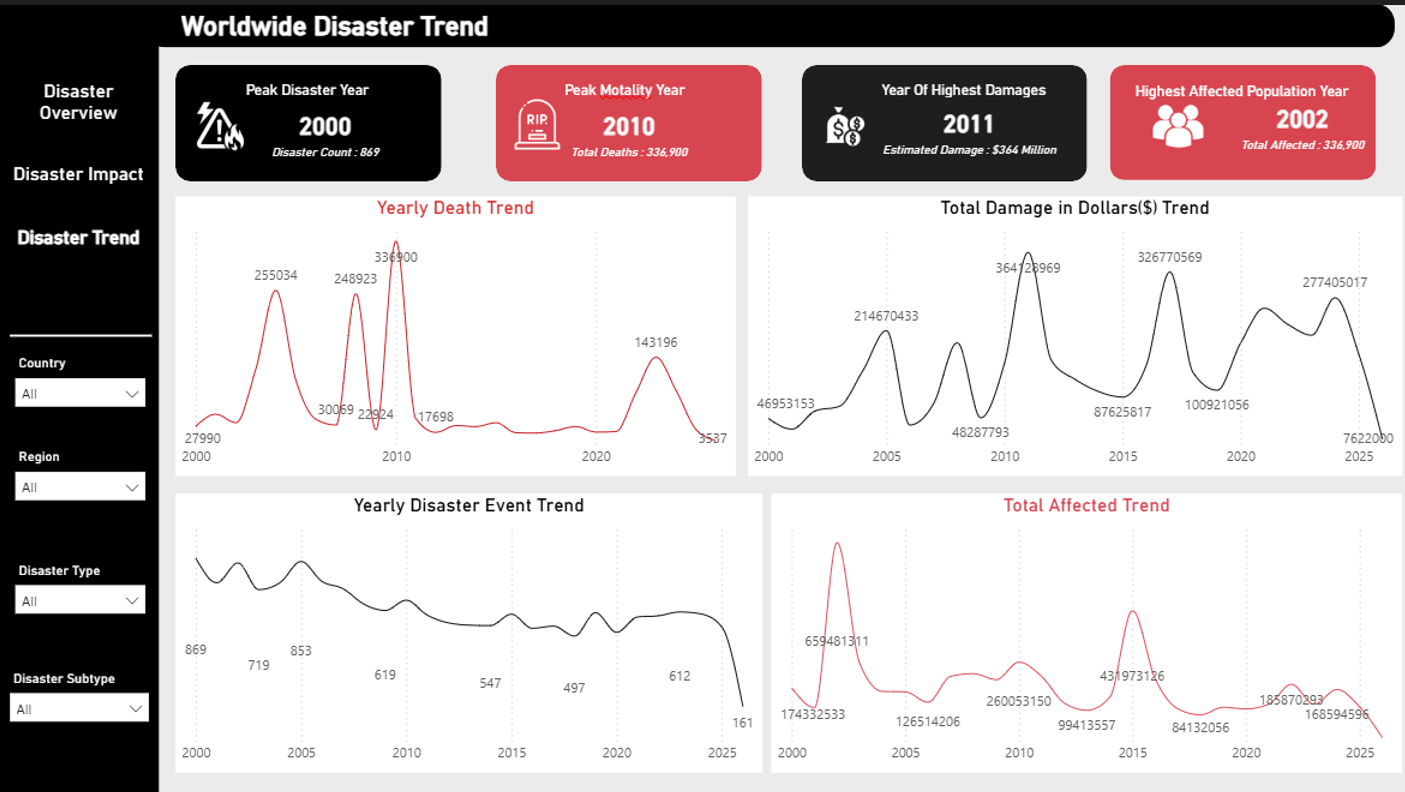

The dashboard page shown, as its layout file describes it:
{"tool":"powerbi","page":{"name":"Dashboard","canvas":[1280,720],"ordinal":1},"visuals":[{"type":"shape","box":[10.1,2,1270.3,718.1],"z":0},{"type":"shape","box":[141.8,7,1122.4,39.2],"z":1000},{"type":"shape","box":[10.1,7,143.8,713.1],"z":2000},{"type":"shape","box":[168,61.4,239.4,104.6],"z":3000},{"type":"areaChart","title":"Yearly Death Trend","fields":{"Category":["SAFETY_ALERT_PRY DATA.Year of Distaster.Variation.Date Hierarchy.Year"],"Y":["Sum(SAFETY_ALERT_PRY DATA.Total _Deaths)"]},"box":[168,180,503.9,251.4],"z":4000},{"type":"stackedAreaChart","title":"Yearly Disaster Event Trend","fields":{"Category":["SAFETY_ALERT_PRY DATA.Year of Distaster.Variation.Date Hierarchy.Year"],"Y":["SAFETY_ALERT_PRY DATA.Number of Events"]},"box":[168,446.6,528,251.4],"z":5000},{"type":"lineChart","title":"Total Damage in Dollars($) Trend","fields":{"Category":["SAFETY_ALERT_PRY DATA.Year of Distaster.Variation.Date Hierarchy.Year"],"Y":["Sum(SAFETY_ALERT_PRY DATA.Total _Damage ( US$))"]},"box":[682.9,180,588.4,251.4],"z":6000},{"type":"stackedAreaChart","title":"Total  Affected Trend","fields":{"Category":["SAFETY_ALERT_PRY DATA.Year of Distaster.Variation.Date Hierarchy.Year"],"Y":["Sum(SAFETY_ALERT_PRY DATA.Total _Affected)"]},"box":[704,446.6,567.3,251.4],"z":7000},{"type":"textbox","box":[168,7,379.2,39.2],"z":8000},{"type":"textbox","box":[226.3,68.4,161.9,34.2],"z":9000},{"type":"textbox","box":[226.3,98.6,152.9,54.3],"z":10000},{"type":"shape","box":[456.6,61.4,239.4,104.6],"z":11000},{"type":"textbox","box":[512.9,68.4,180,34.2],"z":12000},{"type":"textbox","box":[495.5,98.8,161.9,55.1],"z":13000},{"type":"shape","box":[731.2,61.4,256.5,104.6],"z":14000},{"type":"textbox","box":[797.6,68.4,190.1,34.2],"z":15000},{"type":"textbox","box":[787.5,96.6,191.1,56.3],"z":16000},{"type":"shape","box":[1008.8,61.5,239.6,103.6],"z":17000},{"type":"textbox","box":[1026.6,69.6,204,34],"z":18000},{"type":"textbox","box":[1101.3,91.5,161.9,56.3],"z":19000},{"type":"slicer","fields":{"Values":["SAFETY_ALERT_PRY DATA.Country"]},"box":[14.1,317.8,136.8,58.3],"z":20000},{"type":"slicer","fields":{"Values":["SAFETY_ALERT_PRY DATA.Disaster_ Group"]},"box":[9.1,601.5,144.8,63.4],"z":21000},{"type":"slicer","fields":{"Values":["SAFETY_ALERT_PRY DATA.Disaster_ Type"]},"box":[14.1,502.9,136.8,58.3],"z":22000},{"type":"slicer","fields":{"Values":["SAFETY_ALERT_PRY DATA.Region"]},"box":[14.1,402.3,136.8,58.3],"z":23000},{"type":"image","box":[186.1,93.5,45,45],"z":24000},{"type":"image","box":[470.7,91.5,45,45],"z":25000},{"type":"image","box":[747.3,93.5,45,45],"z":26000},{"type":"image","box":[1047,94.5,45,45],"z":27000},{"type":"textbox","box":[13.1,70.1,136.8,166],"z":28000},{"type":"textbox","box":[13.1,200.8,136.8,35.2],"z":29000},{"type":"shape","box":[19.1,283.6,127.7,43.2],"z":30000}]}

Visuals, with their boxes on the page's 1280x720 design canvas (x1, y1, x2, y2). These are canvas units, not pixel positions in the 1405x792 screenshot, which may show the page scaled, cropped or inside an application window:
shape: left=10, top=2, right=1280, bottom=720
shape: left=142, top=7, right=1264, bottom=46
shape: left=10, top=7, right=154, bottom=720
shape: left=168, top=61, right=407, bottom=166
"Yearly Death Trend" areaChart: left=168, top=180, right=672, bottom=431
"Yearly Disaster Event Trend" stackedAreaChart: left=168, top=447, right=696, bottom=698
"Total Damage in Dollars($) Trend" lineChart: left=683, top=180, right=1271, bottom=431
"Total  Affected Trend" stackedAreaChart: left=704, top=447, right=1271, bottom=698
textbox: left=168, top=7, right=547, bottom=46
textbox: left=226, top=68, right=388, bottom=103
textbox: left=226, top=99, right=379, bottom=153
shape: left=457, top=61, right=696, bottom=166
textbox: left=513, top=68, right=693, bottom=103
textbox: left=496, top=99, right=657, bottom=154
shape: left=731, top=61, right=988, bottom=166
textbox: left=798, top=68, right=988, bottom=103
textbox: left=788, top=97, right=979, bottom=153
shape: left=1009, top=62, right=1248, bottom=165
textbox: left=1027, top=70, right=1231, bottom=104
textbox: left=1101, top=92, right=1263, bottom=148
slicer - SAFETY_ALERT_PRY DATA.Country: left=14, top=318, right=151, bottom=376
slicer - SAFETY_ALERT_PRY DATA.Disaster_ Group: left=9, top=602, right=154, bottom=665
slicer - SAFETY_ALERT_PRY DATA.Disaster_ Type: left=14, top=503, right=151, bottom=561
slicer - SAFETY_ALERT_PRY DATA.Region: left=14, top=402, right=151, bottom=461
image: left=186, top=94, right=231, bottom=138
image: left=471, top=92, right=516, bottom=136
image: left=747, top=94, right=792, bottom=138
image: left=1047, top=94, right=1092, bottom=140
textbox: left=13, top=70, right=150, bottom=236
textbox: left=13, top=201, right=150, bottom=236
shape: left=19, top=284, right=147, bottom=327
